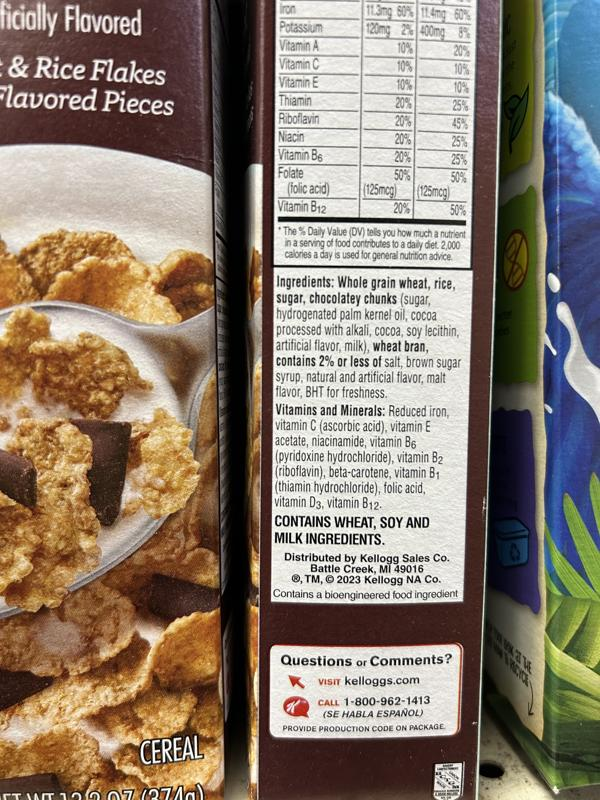ingredients: (274, 273, 463, 400)
